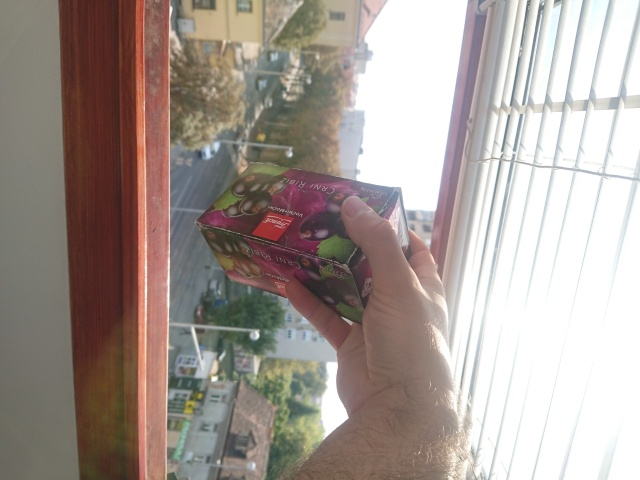Franck Black Currant Tea 60g: (192, 159, 415, 330)
